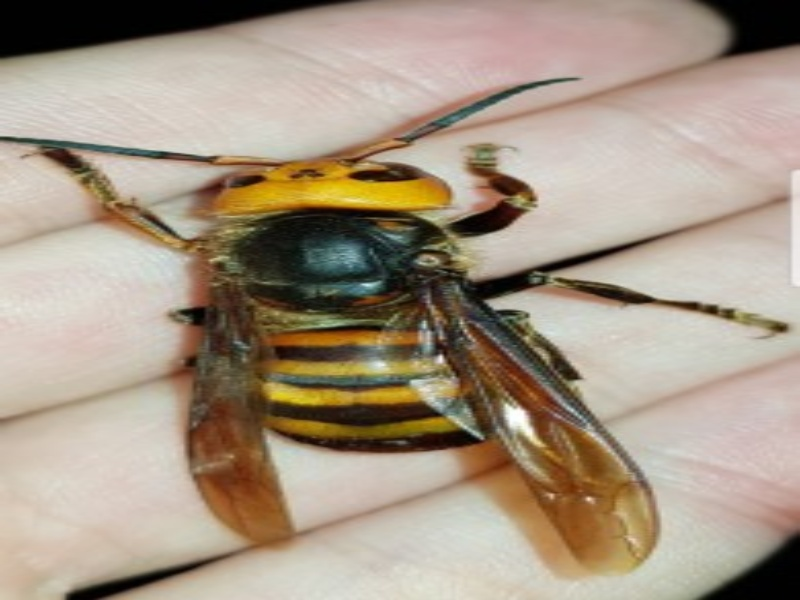asian_giant_hornet: (168, 142, 558, 456)
